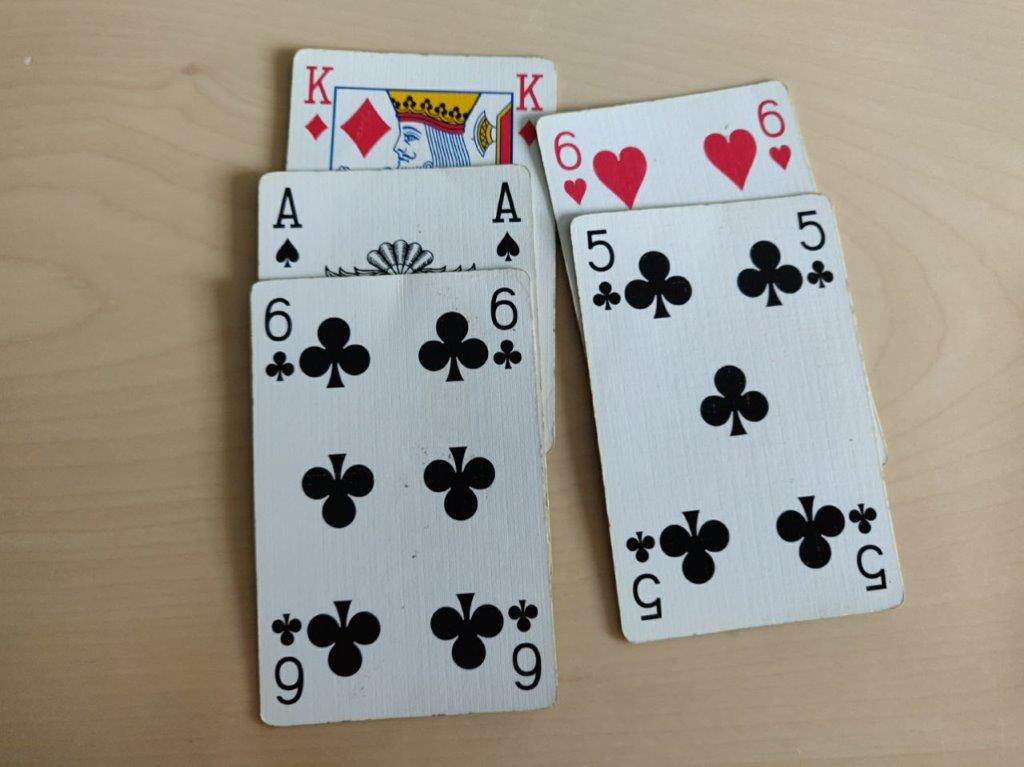5C: (579, 223, 624, 314), (793, 207, 838, 298)
6C: (262, 292, 299, 386), (486, 283, 523, 377)
6H: (753, 94, 794, 183), (551, 117, 589, 206)
AS: (272, 181, 308, 271), (488, 176, 524, 266)
KD: (297, 56, 337, 147), (511, 66, 548, 154)
